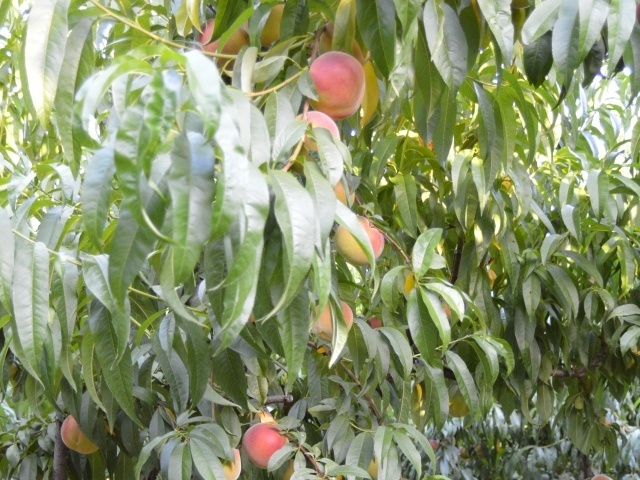peach: (301, 48, 371, 121), (191, 12, 257, 73), (327, 213, 388, 267), (240, 419, 293, 474), (293, 105, 346, 154), (57, 410, 109, 459), (308, 296, 357, 343)
